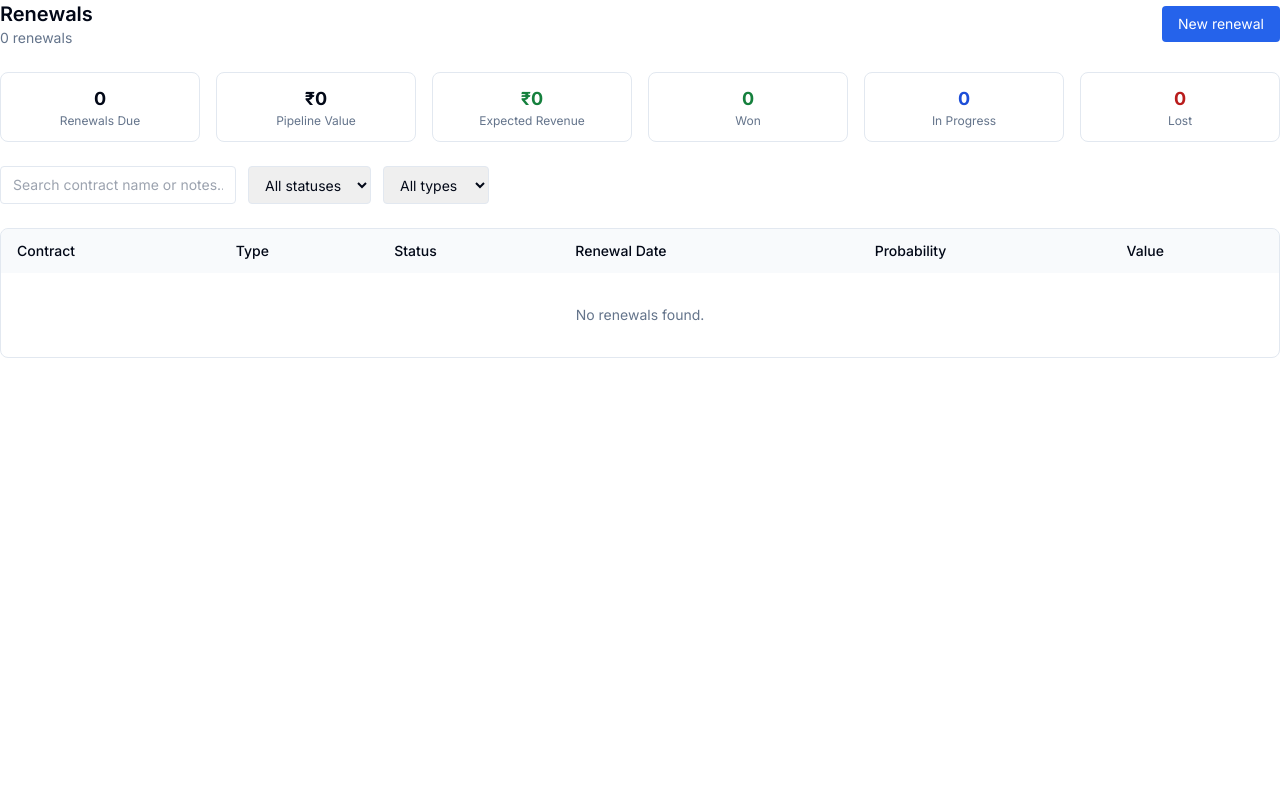
RenewalCenter › opens create dialog when New renewal btn clicked
Click the button with test id "add-renewal-btn" at (1221, 24), box [1162, 6, 1279, 42]
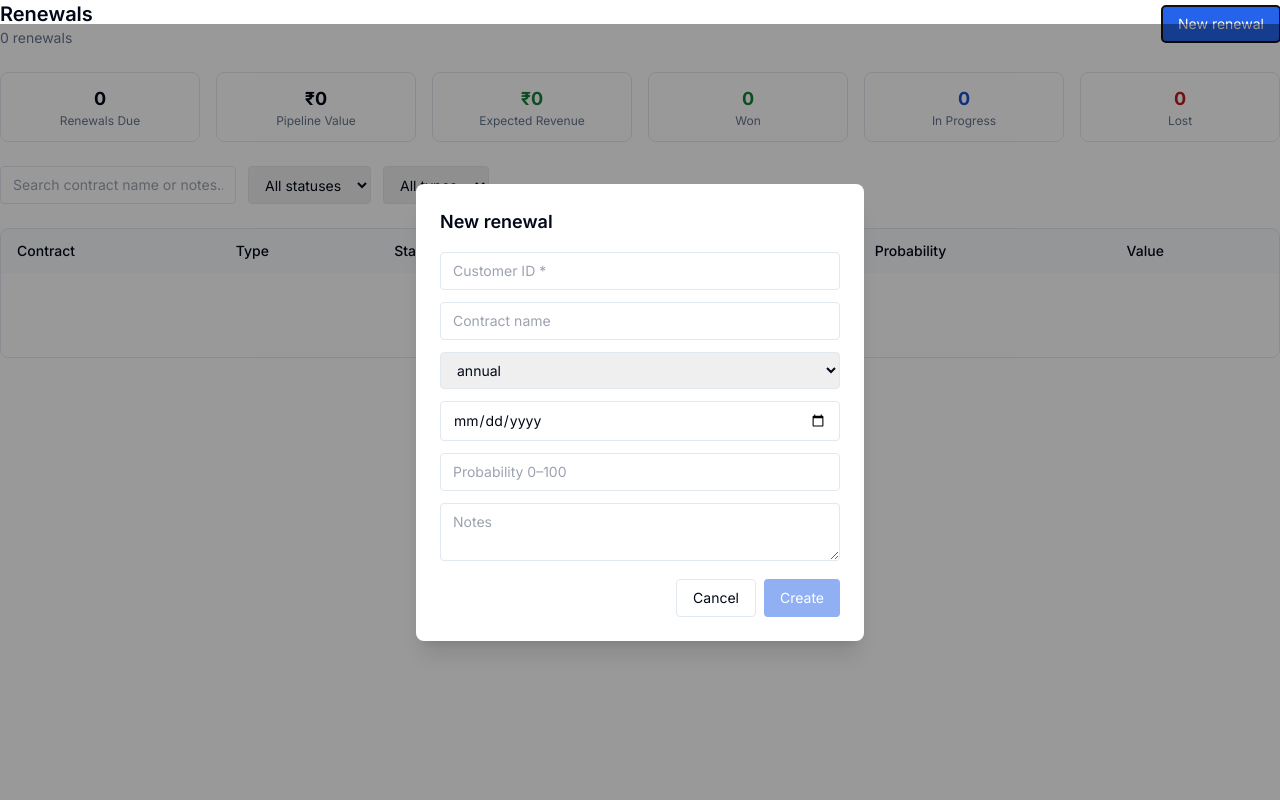
Expected: the element with test id "renewal-dialog" is shown
